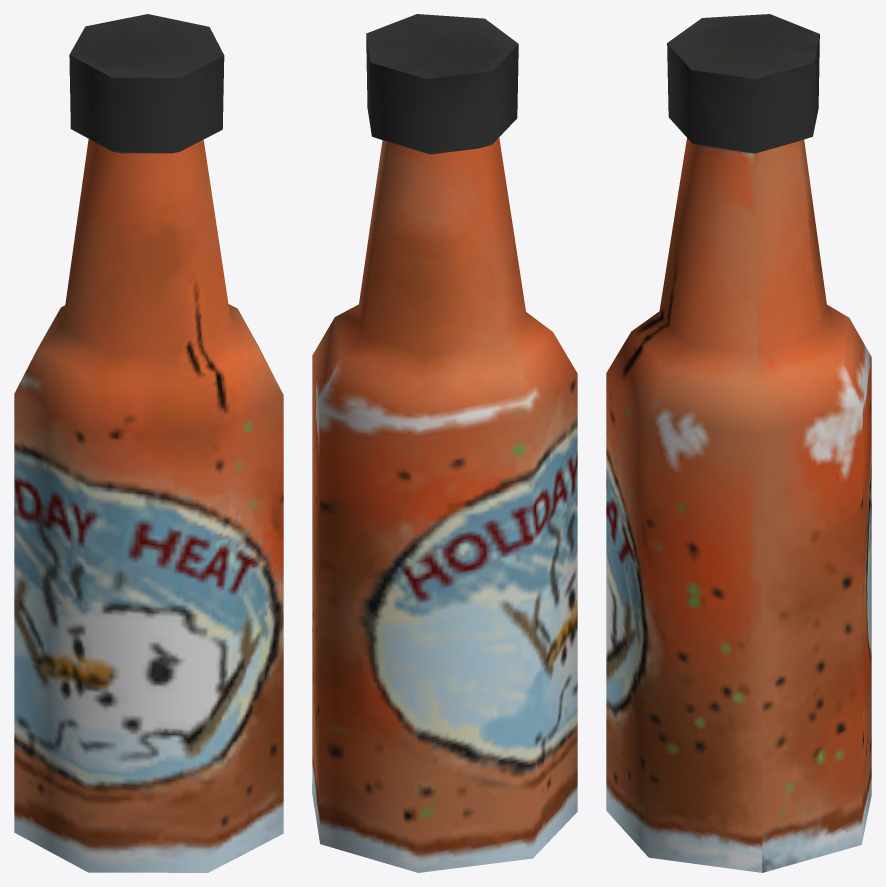
The model's file is Hot Sauce.obj.
3 renders of one model, left to right at view 1: azimuth 30°, elevation 25°; view 2: azimuth 150°, elevation 25°; view 3: azimuth 270°, elevation 25°, orthographic.
Visible parts, largest first — view 1: Quest_HotSauce; view 2: Quest_HotSauce; view 3: Quest_HotSauce.
Boxes of the visible parts, box(x1,y1,x2,y2) form: Quest_HotSauce: box(14, 14, 283, 872); Quest_HotSauce: box(312, 14, 577, 872); Quest_HotSauce: box(606, 14, 871, 872).
Size of the model in its own units: 0.2017 by 0.6403 by 0.2004.
